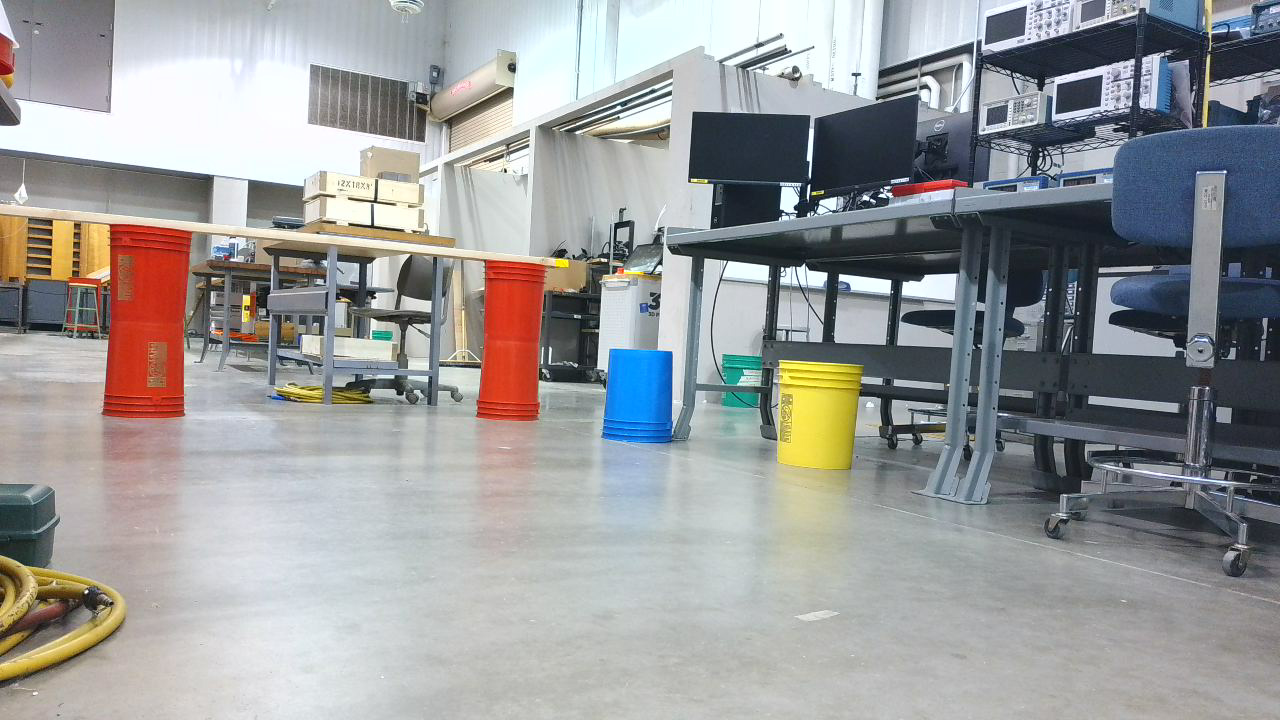blue_bucket: (601, 349, 684, 453)
red_bucket_arch: (105, 225, 554, 430)
yellow_bucket: (776, 361, 874, 478)
